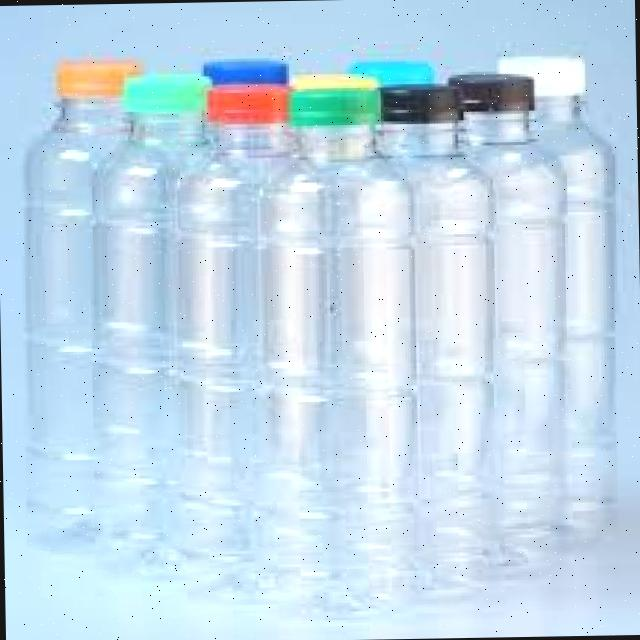bottle: (49, 62, 227, 555), (267, 69, 418, 606), (475, 43, 625, 561), (175, 83, 320, 596), (379, 76, 510, 606), (438, 62, 576, 563), (16, 44, 150, 530)
cap: (281, 80, 385, 132), (434, 68, 543, 116), (200, 75, 296, 128), (376, 78, 466, 126), (124, 68, 198, 114), (56, 62, 132, 100)
